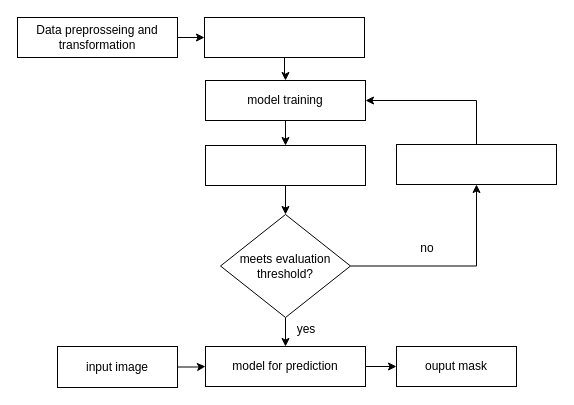
Image size: 574x405. Some labels were removed from this diagram. Each missing label, with the centre of its shape:
"fine tuning" goes at point (476, 164).
"model building" goes at point (284, 37).
"model evaluation" goes at point (285, 165).
